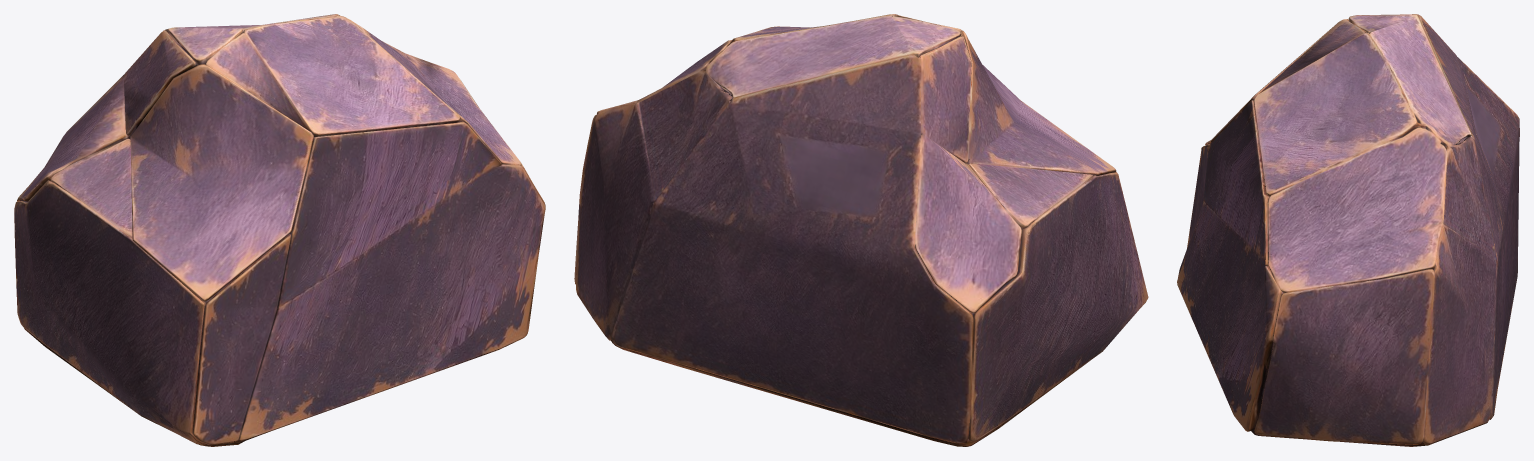
The model's file is rock_short.glb.
3 renders of one model, left to right at view 1: azimuth 30°, elevation 25°; view 2: azimuth 150°, elevation 25°; view 3: azimuth 270°, elevation 25°, orthographic. The views are drawn at different scales.
Visible parts, largest first — view 1: tripo_3750881a_d065_4fe2_9ea2_cc51ab3cfca7; view 2: tripo_3750881a_d065_4fe2_9ea2_cc51ab3cfca7; view 3: tripo_3750881a_d065_4fe2_9ea2_cc51ab3cfca7.
Part boxes in pixels (x1=…): tripo_3750881a_d065_4fe2_9ea2_cc51ab3cfca7: x1=14, y1=14, x2=545, y2=446; tripo_3750881a_d065_4fe2_9ea2_cc51ab3cfca7: x1=574, y1=14, x2=1148, y2=446; tripo_3750881a_d065_4fe2_9ea2_cc51ab3cfca7: x1=1177, y1=14, x2=1519, y2=446.
Size of the model in its own units: 0.9995 by 0.689 by 0.7056.
1 material, 1 textured.
